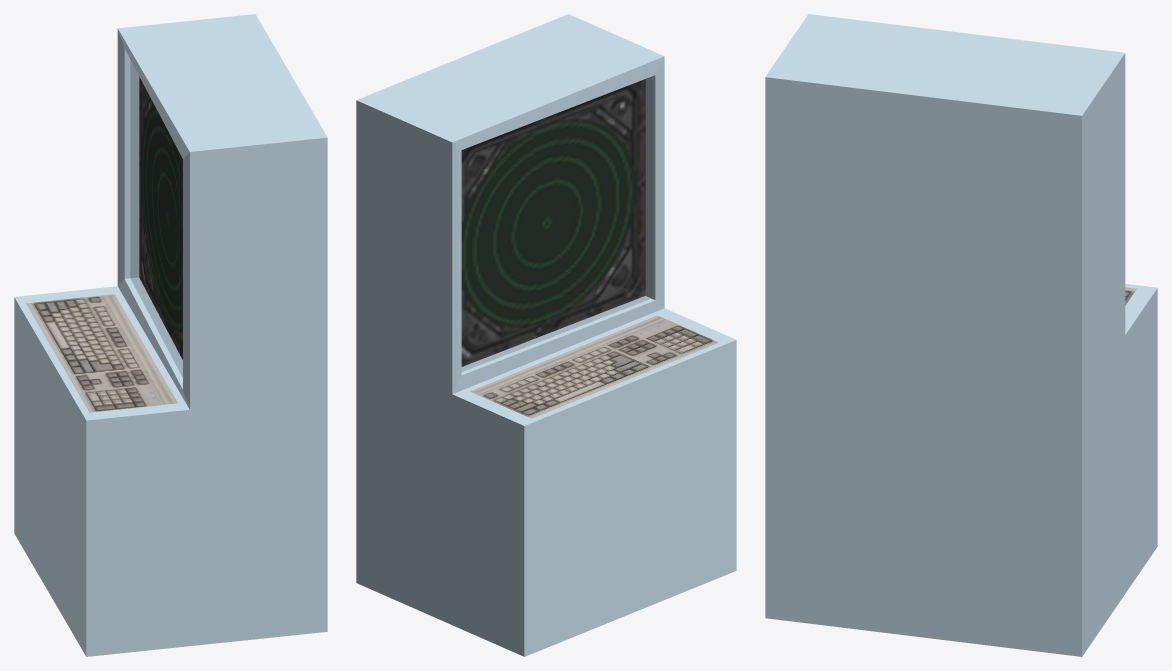
File: EB_SonarStation.fbx
3 renders of one model, left to right at view 1: azimuth 30°, elevation 25°; view 2: azimuth 150°, elevation 25°; view 3: azimuth 270°, elevation 25°, orthographic. The views are drawn at different scales.
Parts seen in each view (by area): view 1: SonarStation; view 2: SonarStation; view 3: SonarStation.
Boxes of the visible parts, x1,y1,x2,y2 form: SonarStation: (14, 14, 327, 656); SonarStation: (356, 14, 736, 656); SonarStation: (765, 14, 1157, 656).
Size of the model in its own units: 72.13 by 122 by 80.18.
